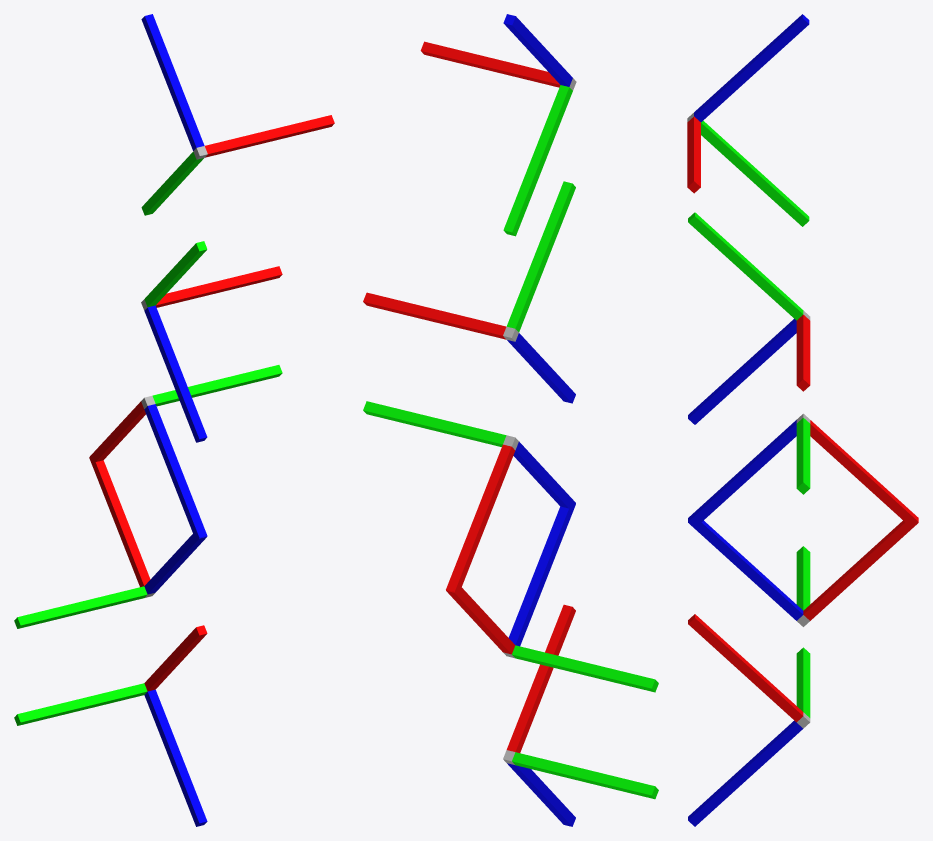
Rendered from simple_002_Rotation_00.dae.
3 renders of one model, left to right at view 1: azimuth 30°, elevation 25°; view 2: azimuth 150°, elevation 25°; view 3: azimuth 270°, elevation 25°, orthographic. The views are drawn at different scales.
Parts seen in each view (by area): view 1: pCube2 (×2), pCube5, pCube3, pCube4; view 2: pCube2 (×2), pCube3, pCube4, pCube5; view 3: pCube2 (×2), pCube5, pCube3, pCube4.
Part boxes in pixels (x1,y1,x2,y2): pCube2 (×2): [141, 14, 334, 442]; pCube5: [14, 625, 207, 826]; pCube3: [89, 365, 282, 540]; pCube4: [14, 454, 207, 628]; pCube2 (×2): [363, 14, 576, 403]; pCube3: [363, 401, 575, 595]; pCube4: [446, 504, 658, 692]; pCube5: [503, 604, 658, 826]; pCube2 (×2): [687, 14, 810, 424]; pCube5: [688, 614, 810, 826]; pCube3: [688, 413, 918, 526]; pCube4: [688, 517, 918, 626].
Bounding box in the file's own units: 5.74 × 4.2 × 16.18.
